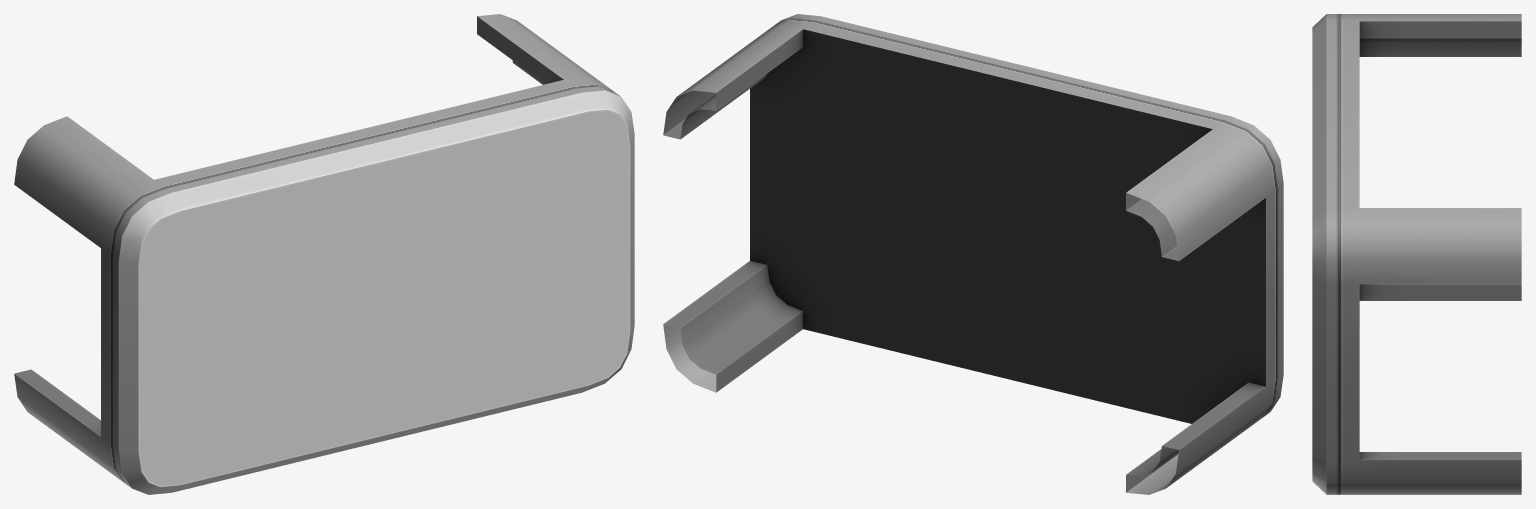
Rendered from space_table.obj.
The picture shows the model from 3 angles, left to right: view 1: azimuth 30°, elevation 25°; view 2: azimuth 150°, elevation 25°; view 3: azimuth 270°, elevation 25°; orthographic projection. The views are drawn at different scales.
Visible parts, largest first — view 1: space_table; view 2: space_table; view 3: space_table.
Boxes of the visible parts, x1,y1,x2,y2 form: space_table: [14, 14, 634, 494]; space_table: [663, 14, 1283, 494]; space_table: [1312, 14, 1521, 494].
Size of the model in its own units: 72 by 40 by 27.14.
